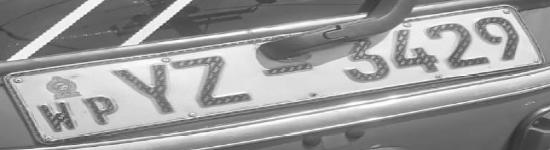-: (257, 60, 319, 78)
2: (422, 21, 490, 69)
3: (327, 36, 392, 83)
4: (389, 28, 443, 75)
9: (470, 16, 526, 62)
P: (80, 94, 125, 127)
W: (36, 101, 78, 133)
Y: (114, 62, 176, 114)
Z: (172, 54, 254, 108)
